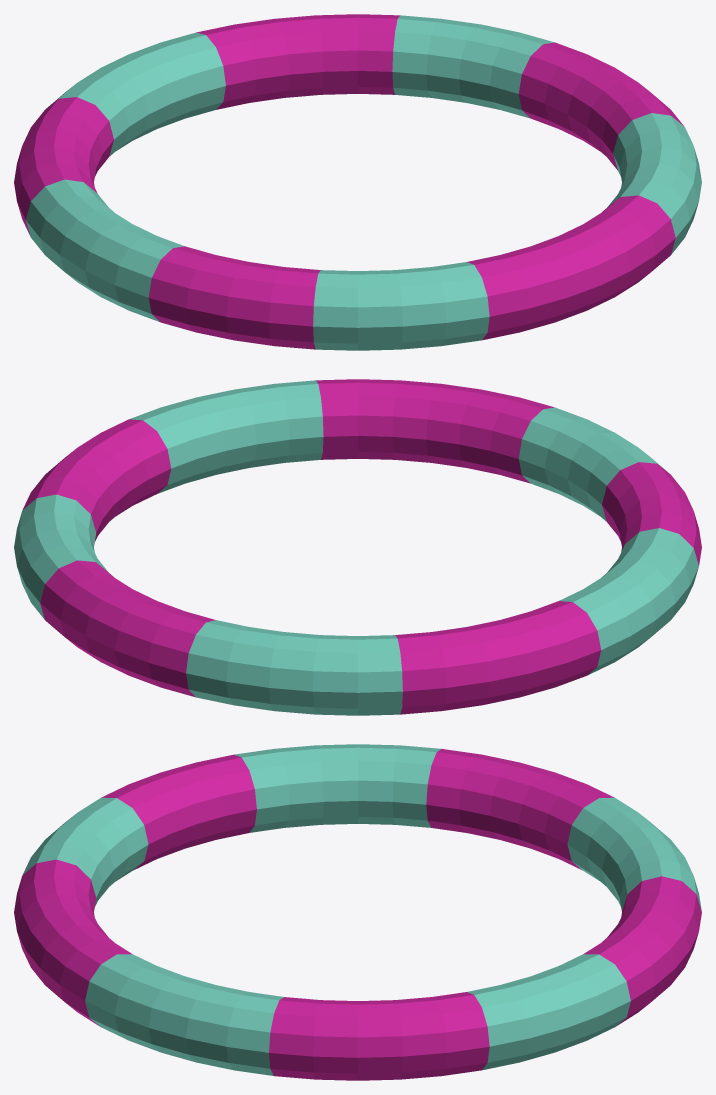
Rendered from Ring2.fbx.
3 views of the same model, one above another, from view 1: azimuth 30°, elevation 25°; view 2: azimuth 150°, elevation 25°; view 3: azimuth 270°, elevation 25° (orthographic).
Visible parts, largest first — view 1: トーラス.003; view 2: トーラス.003; view 3: トーラス.003.
Part boxes in pixels (left/top/right/bottom): トーラス.003: left=14, top=14, right=701, bottom=350; トーラス.003: left=14, top=379, right=701, bottom=715; トーラス.003: left=14, top=744, right=701, bottom=1080.
Bounding box in the file's own units: 258 × 30 × 258.
